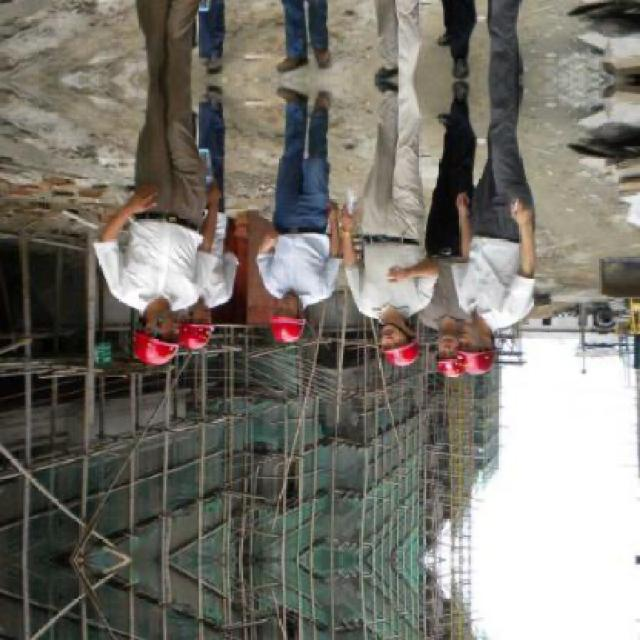con casco: (97, 241, 223, 407), (170, 303, 274, 413), (343, 285, 444, 379), (259, 282, 337, 375), (442, 318, 511, 404), (420, 322, 488, 387)
